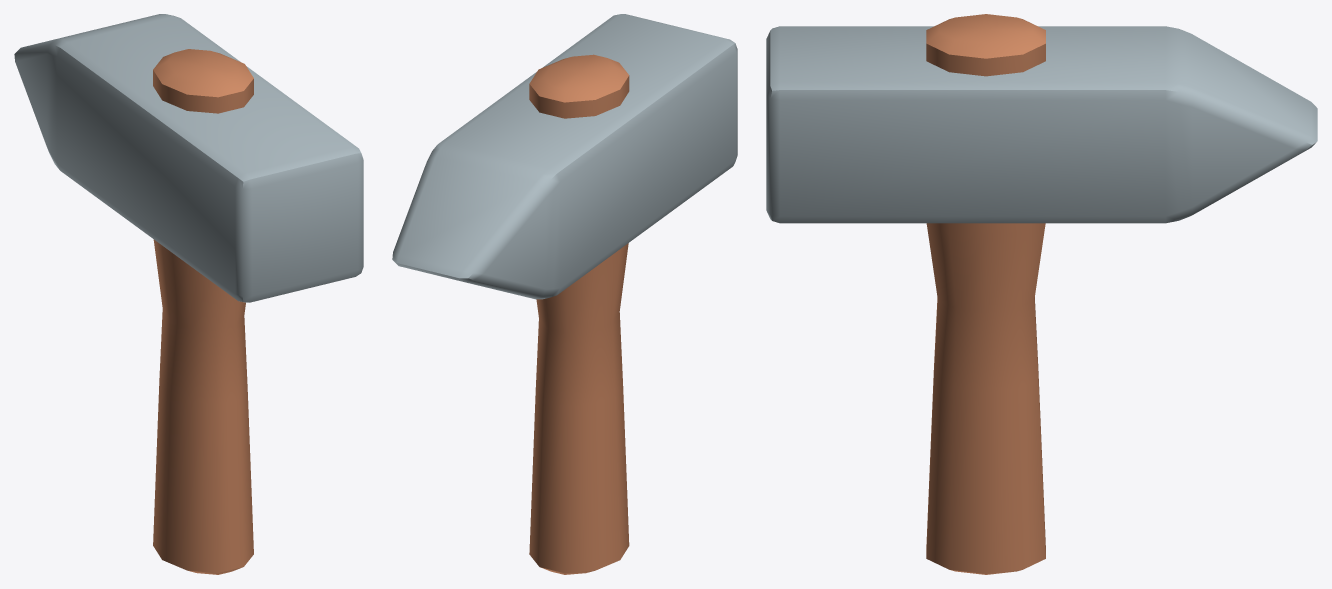
File: hammer.gltf.glb
3 views of the same model, side by side, from view 1: azimuth 30°, elevation 25°; view 2: azimuth 150°, elevation 25°; view 3: azimuth 270°, elevation 25° (orthographic). The views are drawn at different scales.
Visible parts, largest first — view 1: hammer; view 2: hammer; view 3: hammer.
Part boxes in pixels (left/top/right/bottom): hammer: left=14, top=14, right=363, bottom=574; hammer: left=392, top=14, right=737, bottom=574; hammer: left=766, top=14, right=1317, bottom=574.
Bounding box in the file's own units: 0.1198 × 0.4418 × 0.4152.
